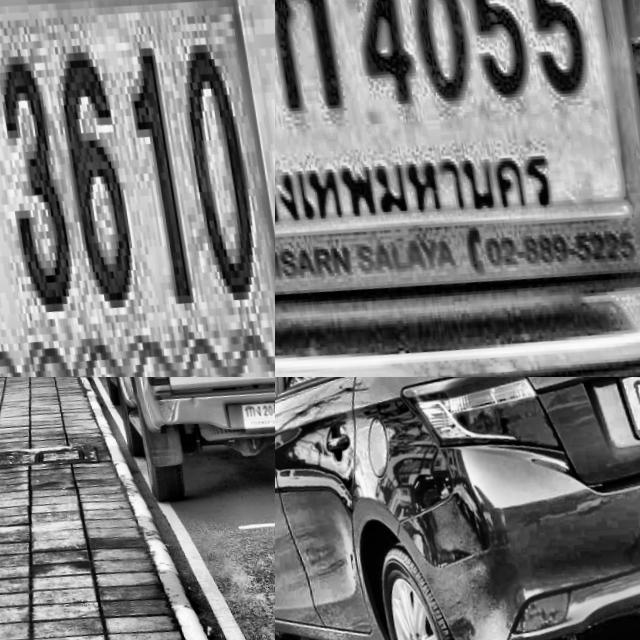license-plate: (275, 0, 640, 357), (0, 0, 275, 377), (237, 391, 275, 425)
